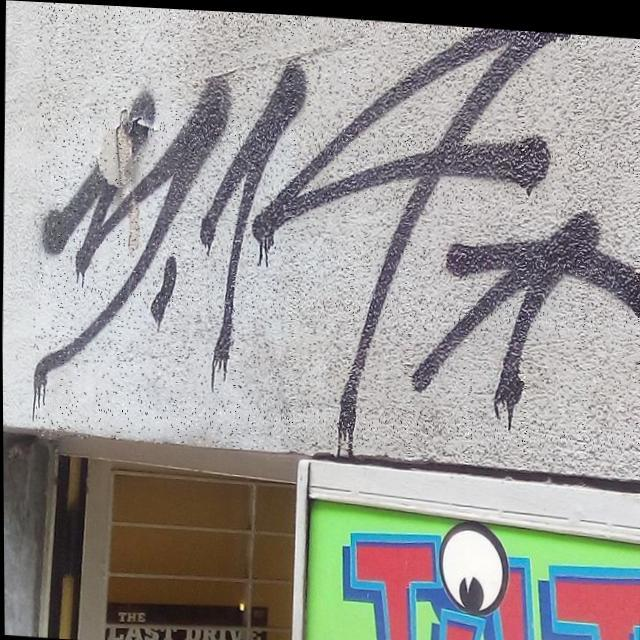-: (29, 1, 640, 470)
